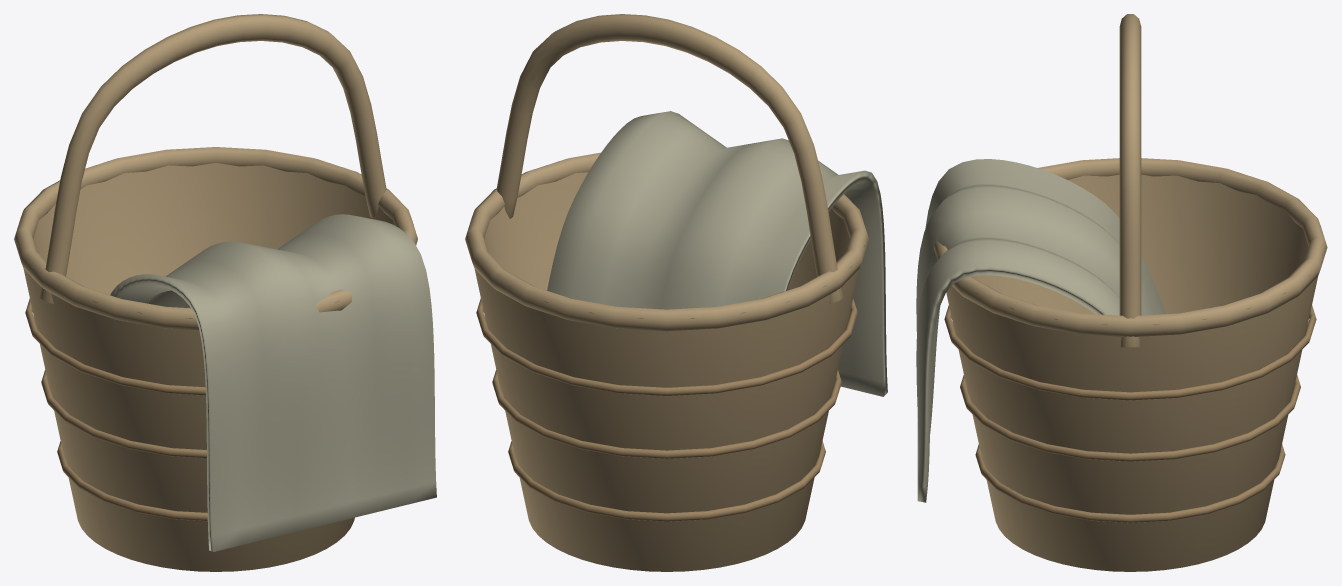
The model's file is blanketbasket.glb.
3 renders of one model, left to right at view 1: azimuth 30°, elevation 25°; view 2: azimuth 150°, elevation 25°; view 3: azimuth 270°, elevation 25°, orthographic. The views are drawn at different scales.
Parts seen in each view (by area): view 1: one-draped-blanket, blanket-hollow-basket, blanket-receiving-handle, blanket-bound-rim, blanket-weave-band-2, blanket-weave-band-1, blanket-weave-band-0; view 2: blanket-hollow-basket, one-draped-blanket, blanket-receiving-handle, blanket-bound-rim, blanket-weave-band-2, blanket-weave-band-1, blanket-weave-band-0; view 3: blanket-hollow-basket, one-draped-blanket, blanket-bound-rim, blanket-receiving-handle, blanket-weave-band-2, blanket-weave-band-1, blanket-weave-band-0.
Part boxes in pixels (x1,y1,x2,y2): one-draped-blanket: (110, 214, 436, 551); blanket-hollow-basket: (18, 157, 413, 571); blanket-receiving-handle: (39, 14, 386, 304); blanket-bound-rim: (14, 147, 417, 330); blanket-weave-band-2: (25, 298, 205, 395); blanket-weave-band-1: (41, 370, 206, 458); blanket-weave-band-0: (57, 441, 207, 521); blanket-hollow-basket: (469, 167, 864, 571); one-draped-blanket: (547, 111, 887, 396); blanket-receiving-handle: (496, 14, 843, 304); blanket-bound-rim: (465, 152, 868, 331); blanket-weave-band-2: (476, 298, 857, 396); blanket-weave-band-1: (492, 370, 841, 458); blanket-weave-band-0: (508, 441, 825, 521); blanket-hollow-basket: (938, 170, 1322, 571); one-draped-blanket: (916, 159, 1165, 502); blanket-bound-rim: (934, 158, 1327, 336); blanket-receiving-handle: (1119, 14, 1141, 347); blanket-weave-band-2: (944, 305, 1316, 400); blanket-weave-band-1: (960, 375, 1300, 461); blanket-weave-band-0: (975, 444, 1285, 522).
Bounding box in the file's own units: 0.548 × 0.7366 × 0.5716.
